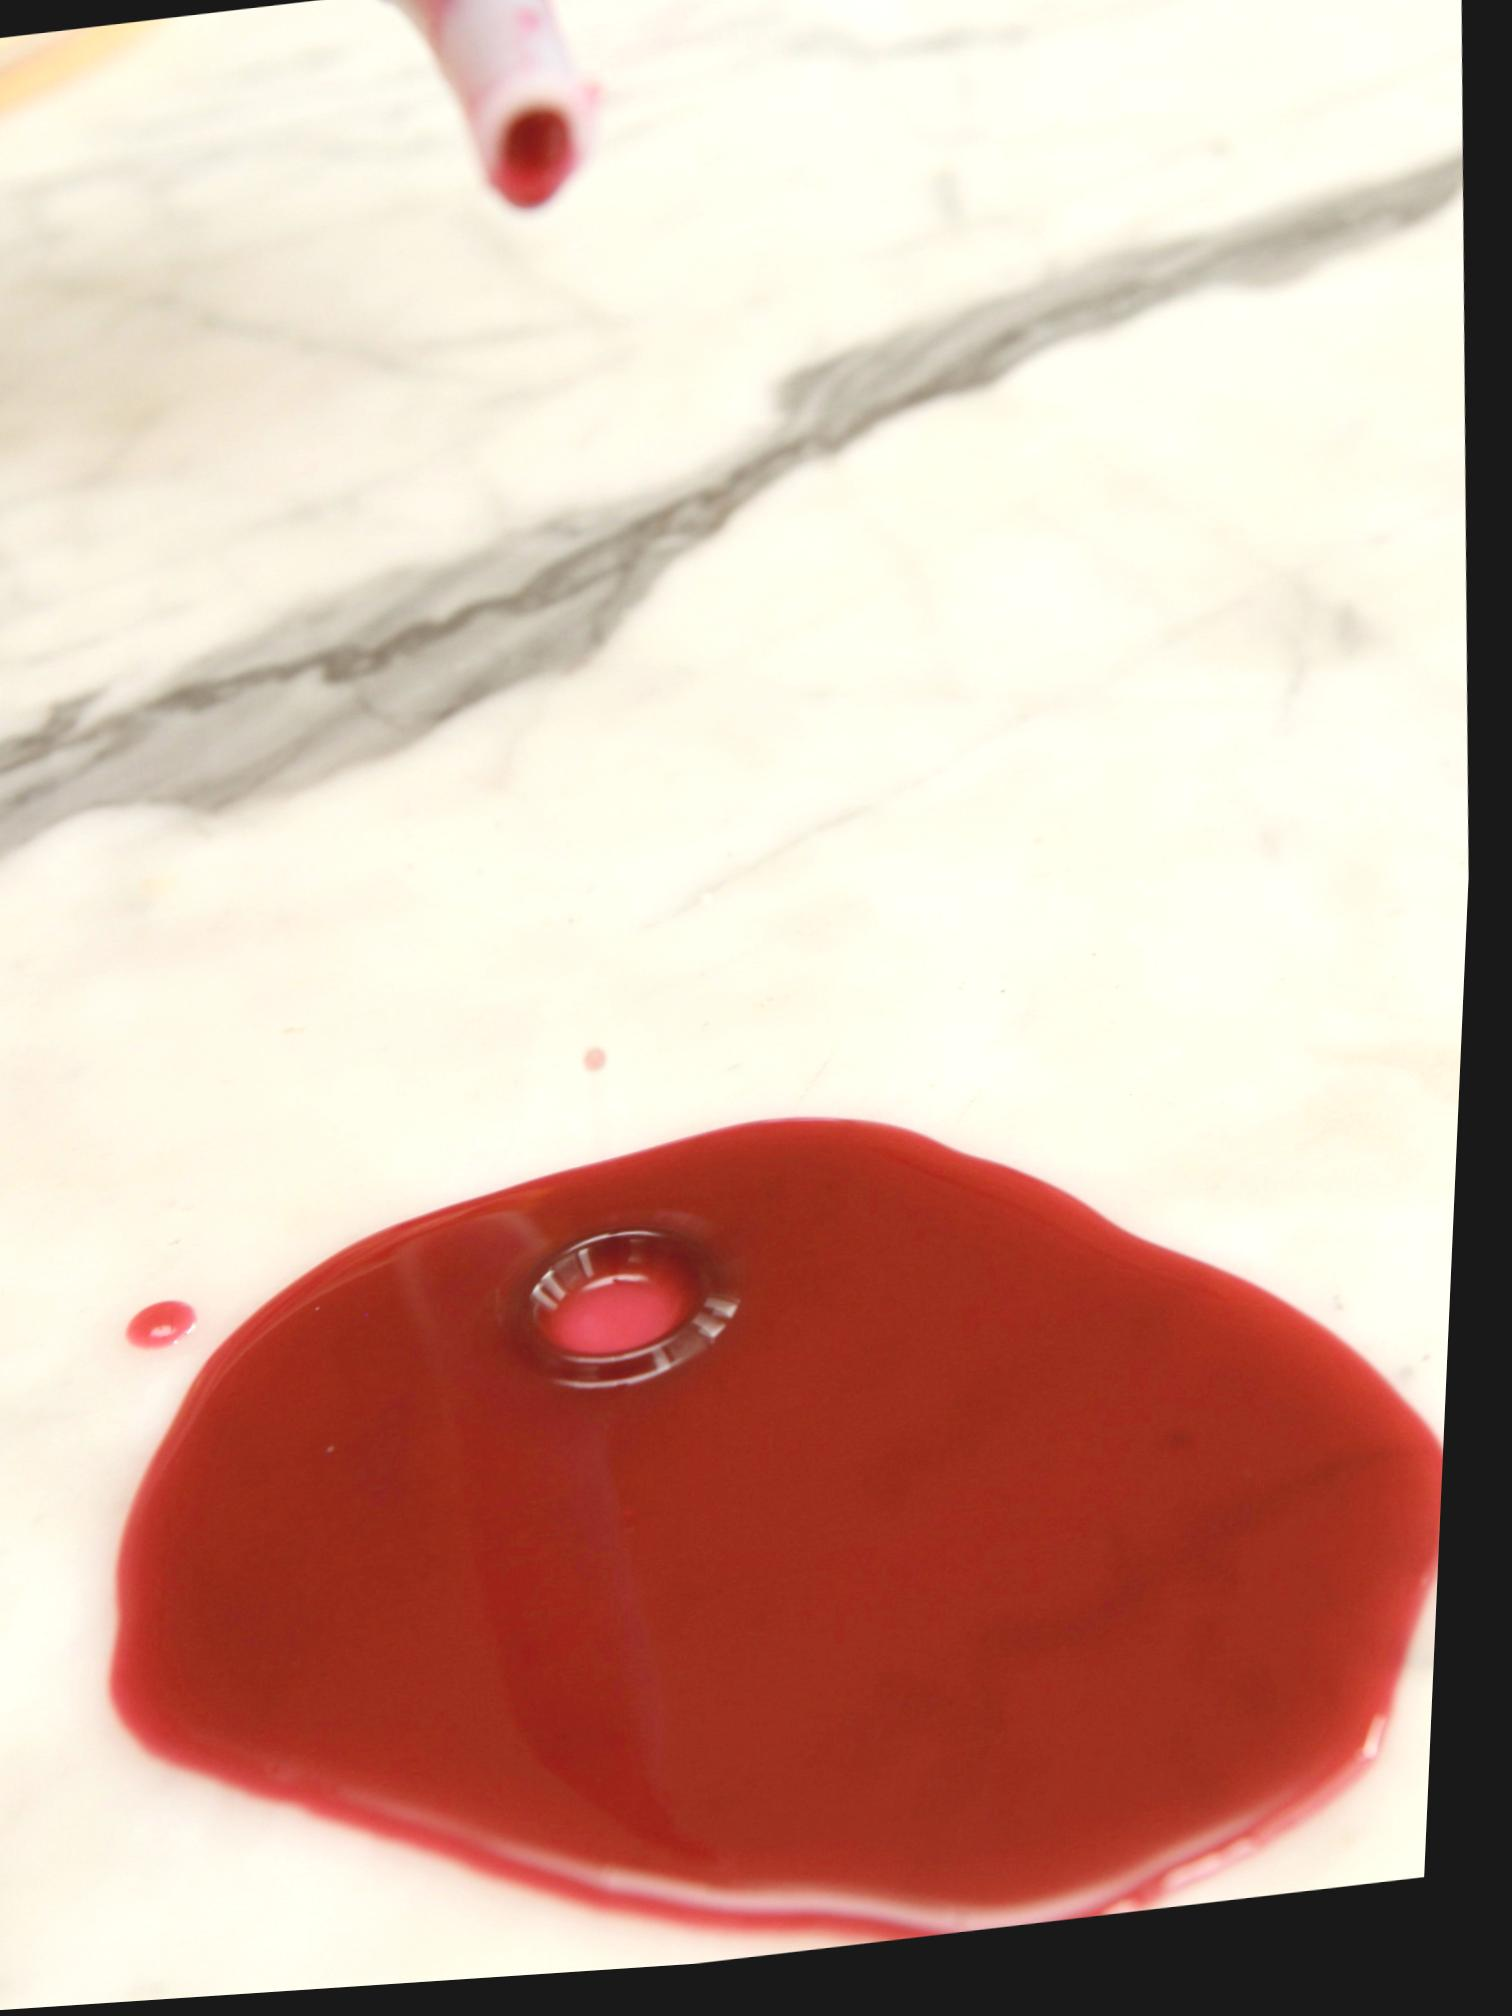Fire: (122, 1129, 1458, 1957), (138, 1303, 208, 1352)
